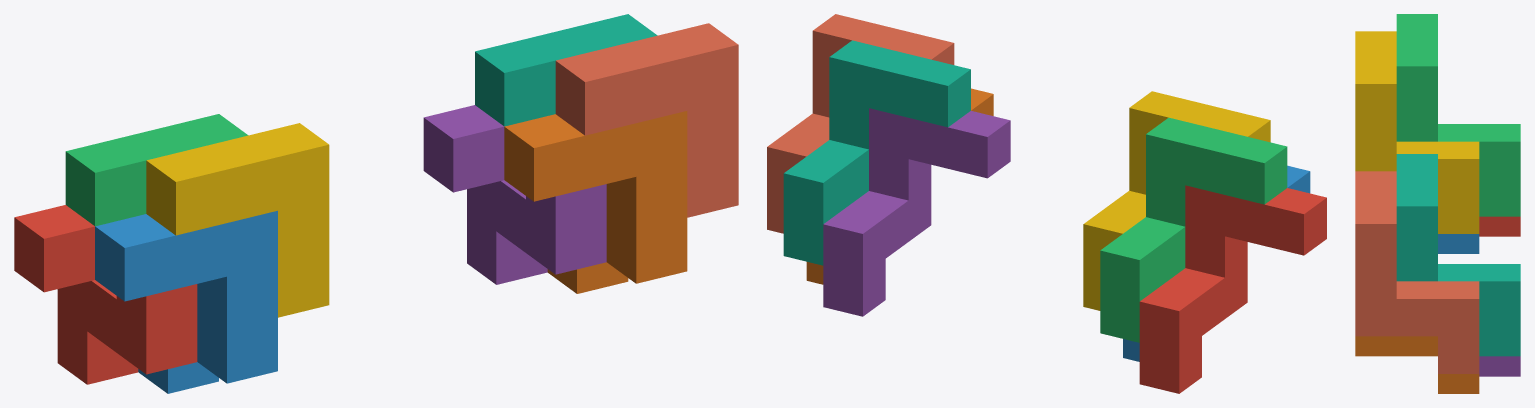
The model's file is tiling.obj.
3 views of the same model, side by side, from view 1: azimuth 30°, elevation 25°; view 2: azimuth 150°, elevation 25°; view 3: azimuth 270°, elevation 25° (orthographic). The views are drawn at different scales.
Parts seen in each view (by area): view 1: copy_1_domain_6, copy_1_domain_2, copy_1_domain_8, copy_1_domain_4, copy_1_domain_1, copy_1_domain_5, copy_1_domain_3, copy_1_domain_7; view 2: copy_1_domain_1, copy_1_domain_5, copy_1_domain_7, copy_1_domain_3, copy_1_domain_8, copy_1_domain_4, copy_1_domain_2, copy_1_domain_6; view 3: copy_1_domain_8, copy_1_domain_4, copy_1_domain_3, copy_1_domain_7, copy_1_domain_6, copy_1_domain_1, copy_1_domain_5, copy_1_domain_2.
Part boxes in pixels (left/top/right/bottom): copy_1_domain_6: left=504, top=111, right=687, bottom=293; copy_1_domain_2: left=95, top=210, right=277, bottom=393; copy_1_domain_8: left=555, top=23, right=738, bottom=217; copy_1_domain_4: left=146, top=123, right=329, bottom=317; copy_1_domain_1: left=14, top=205, right=197, bottom=384; copy_1_domain_5: left=423, top=105, right=606, bottom=284; copy_1_domain_3: left=65, top=114, right=248, bottom=226; copy_1_domain_7: left=475, top=14, right=657, bottom=126; copy_1_domain_1: left=1139, top=185, right=1326, bottom=393; copy_1_domain_5: left=823, top=108, right=1010, bottom=316; copy_1_domain_7: left=783, top=40, right=970, bottom=265; copy_1_domain_3: left=1100, top=117, right=1287, bottom=342; copy_1_domain_8: left=767, top=14, right=954, bottom=233; copy_1_domain_4: left=1083, top=91, right=1270, bottom=310; copy_1_domain_2: left=1123, top=165, right=1310, bottom=361; copy_1_domain_6: left=806, top=88, right=993, bottom=284; copy_1_domain_8: left=1355, top=171, right=1479, bottom=373; copy_1_domain_4: left=1355, top=31, right=1479, bottom=233; copy_1_domain_3: left=1396, top=14, right=1520, bottom=216; copy_1_domain_7: left=1396, top=154, right=1520, bottom=356; copy_1_domain_6: left=1355, top=336, right=1479, bottom=393; copy_1_domain_1: left=1479, top=216, right=1520, bottom=236; copy_1_domain_5: left=1479, top=356, right=1520, bottom=376; copy_1_domain_2: left=1438, top=234, right=1479, bottom=253.
Size of the model in its own units: 13 by 5 by 4.
